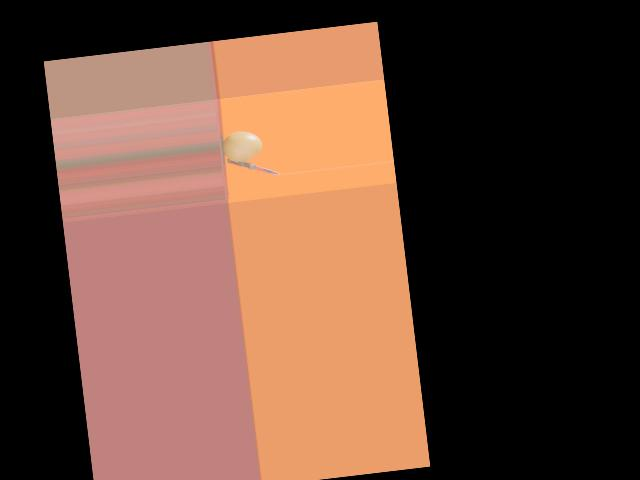egg: (221, 129, 262, 163)
